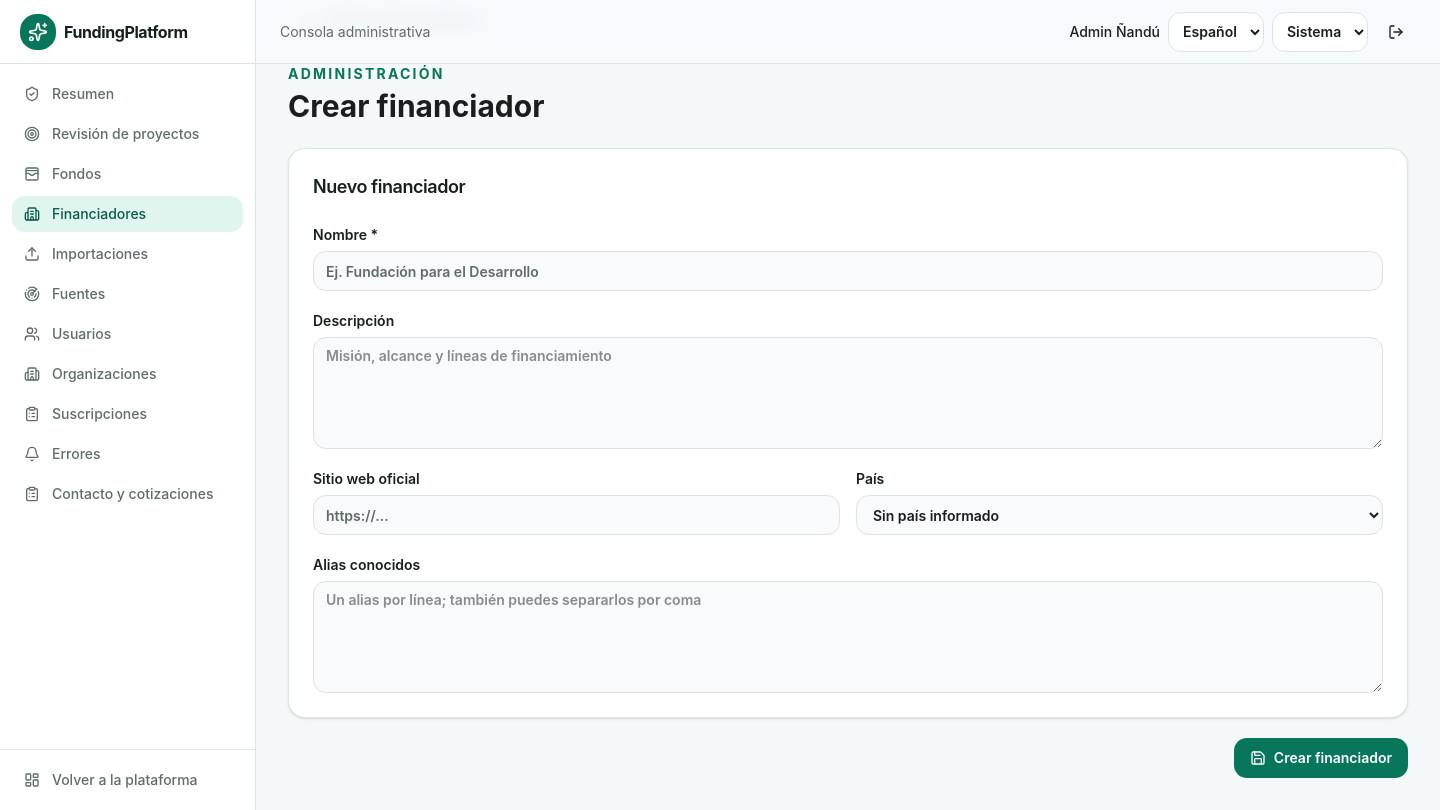
Test: editorial administration ES/EN › keeps a new funder draft and already-visible validation when changing language
(page scrolled)
Expected: the field labelled "Nombre" is shown, [313,251,1383,291]
Click the button "Crear financiador" at (1321, 758), box [1234,738,1408,778]
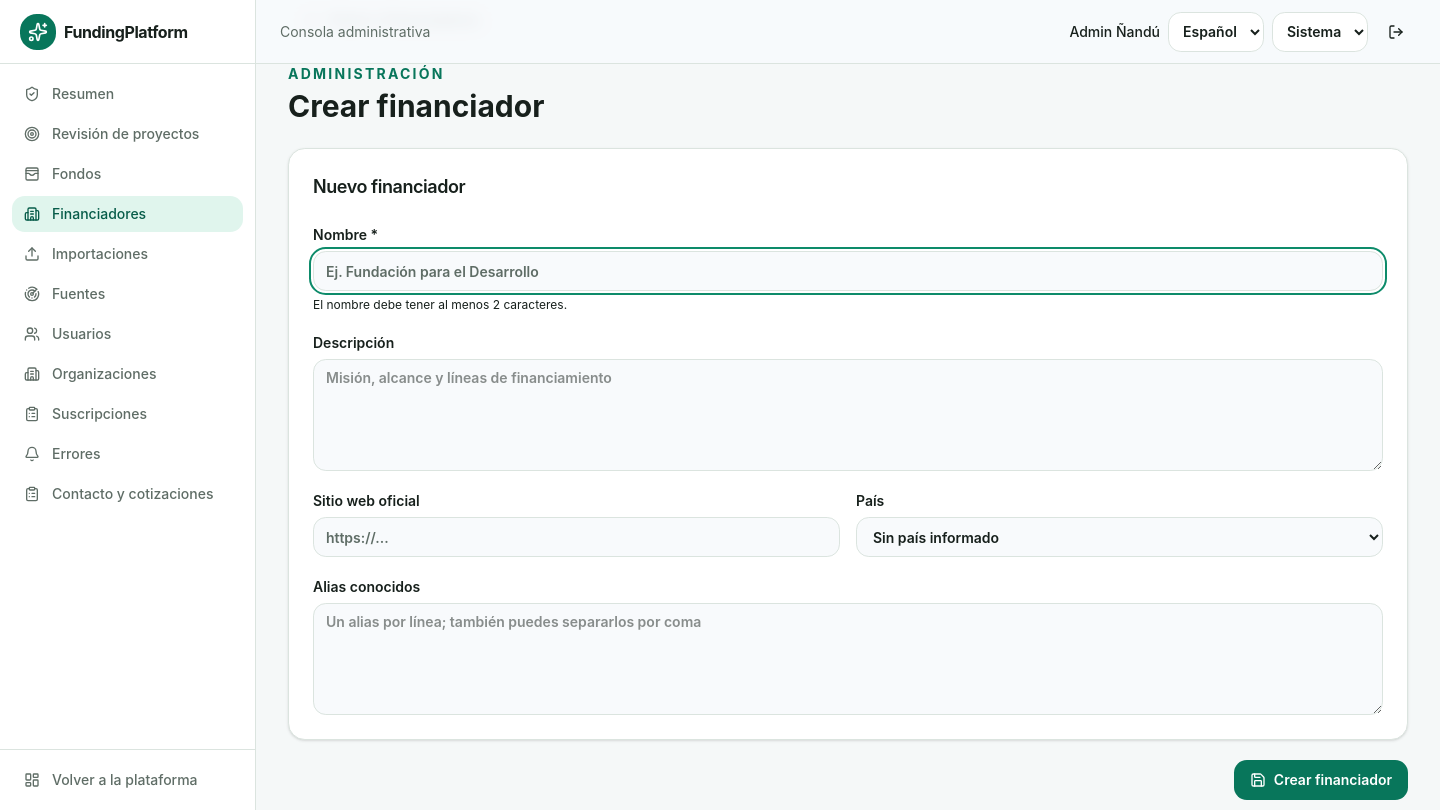
Now the message reads "El nombre debe tener al menos 2 caracteres.", box [313,297,567,312]
Type "Alias original Ñandú" into the text box labelled "Alias conocidos" at (848, 659), box [313,603,1383,715]
(page scrolled)
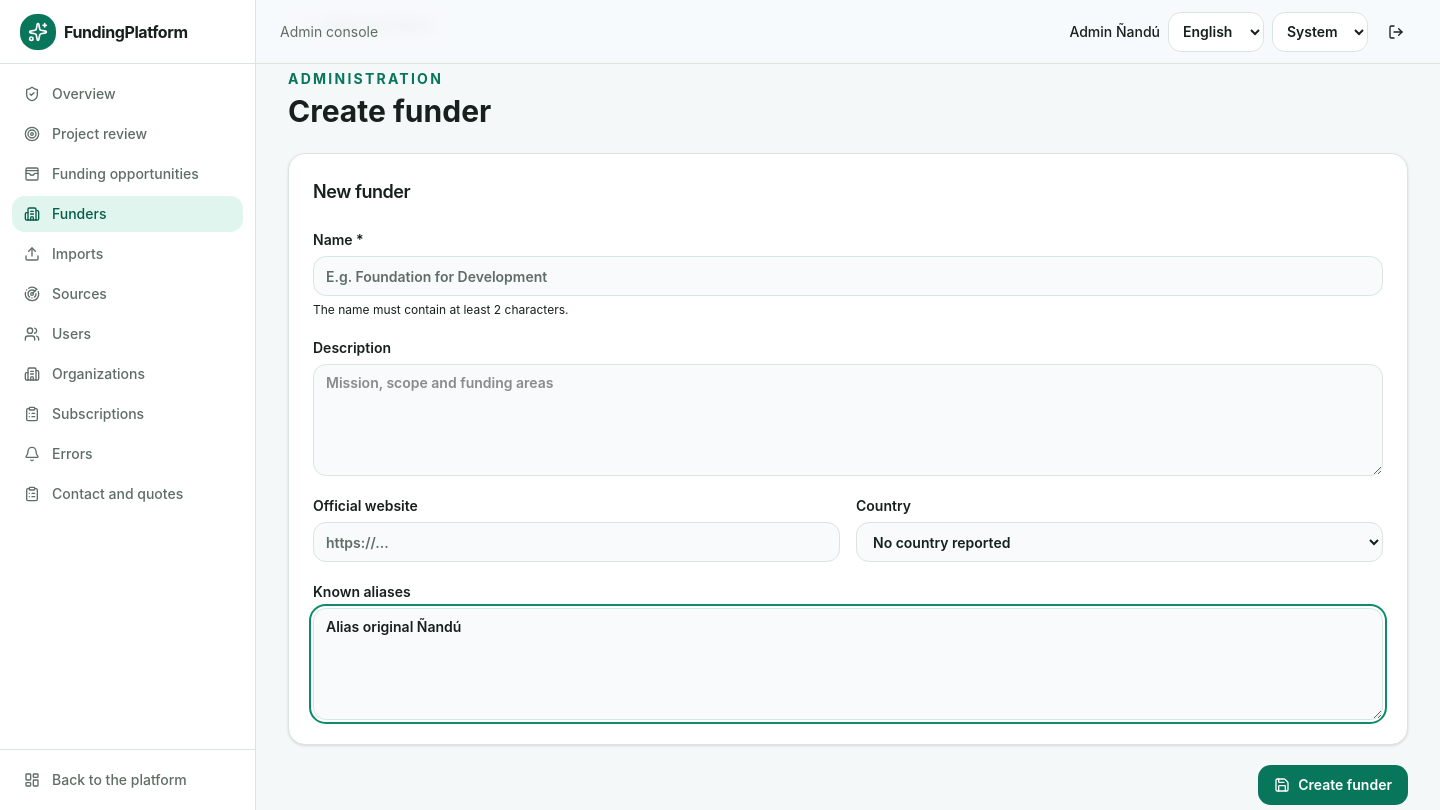
Now the message reads "The name must contain at least 2 characters.", box [313,302,568,317]
